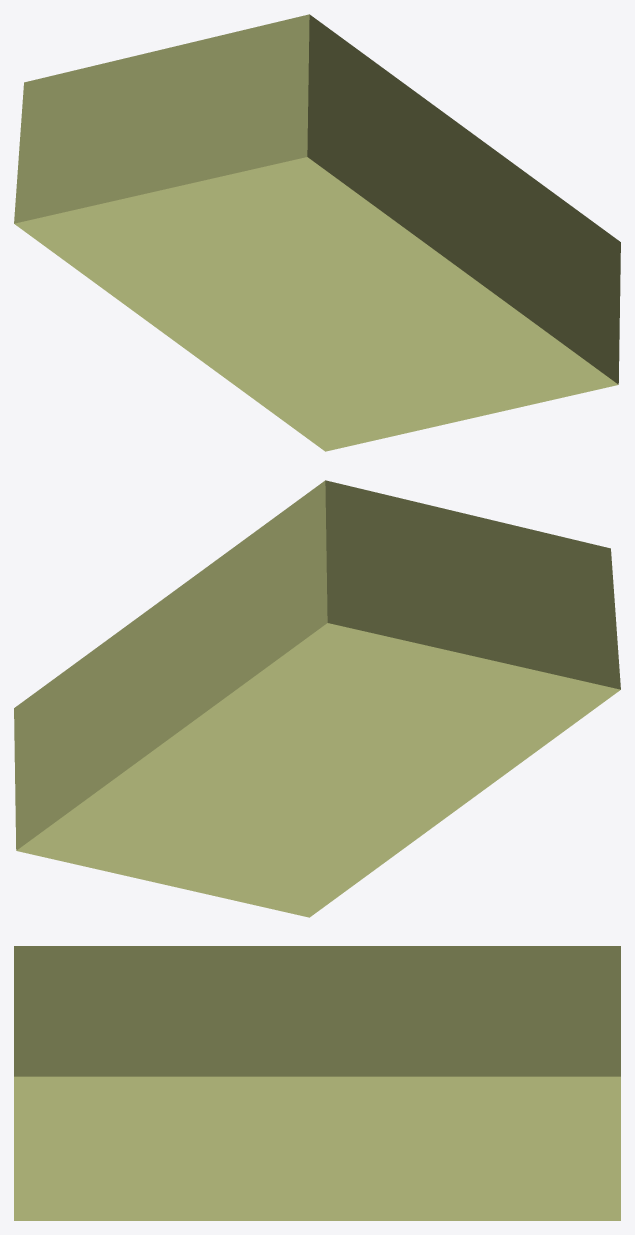
The picture shows the model from 3 angles, top to bottom: view 1: azimuth 30°, elevation 25°; view 2: azimuth 150°, elevation 25°; view 3: azimuth 270°, elevation 25°; orthographic projection. The views are drawn at different scales.
Parts seen in each view (by area): view 1: 0_2_0_1_2_2_1_2_3_0_2; view 2: 0_2_0_1_2_2_1_2_3_0_2; view 3: 0_2_0_1_2_2_1_2_3_0_2.
Boxes of the visible parts, box(x1,y1,x2,y2) form: 0_2_0_1_2_2_1_2_3_0_2: box(14, 14, 620, 451); 0_2_0_1_2_2_1_2_3_0_2: box(14, 480, 620, 917); 0_2_0_1_2_2_1_2_3_0_2: box(14, 946, 620, 1220).
Bounding box in the file's own units: 3.29 × 1.53 × 6.
